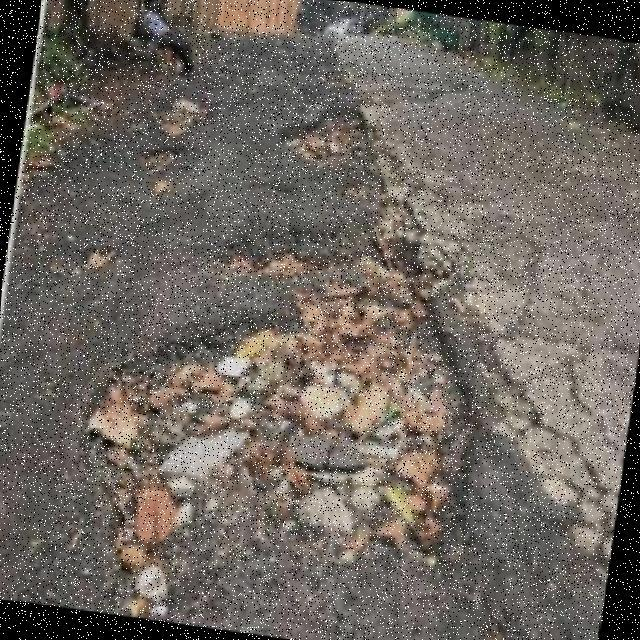Pothole: (85, 199, 472, 620), (280, 107, 368, 165), (149, 98, 207, 137), (138, 146, 179, 176)
